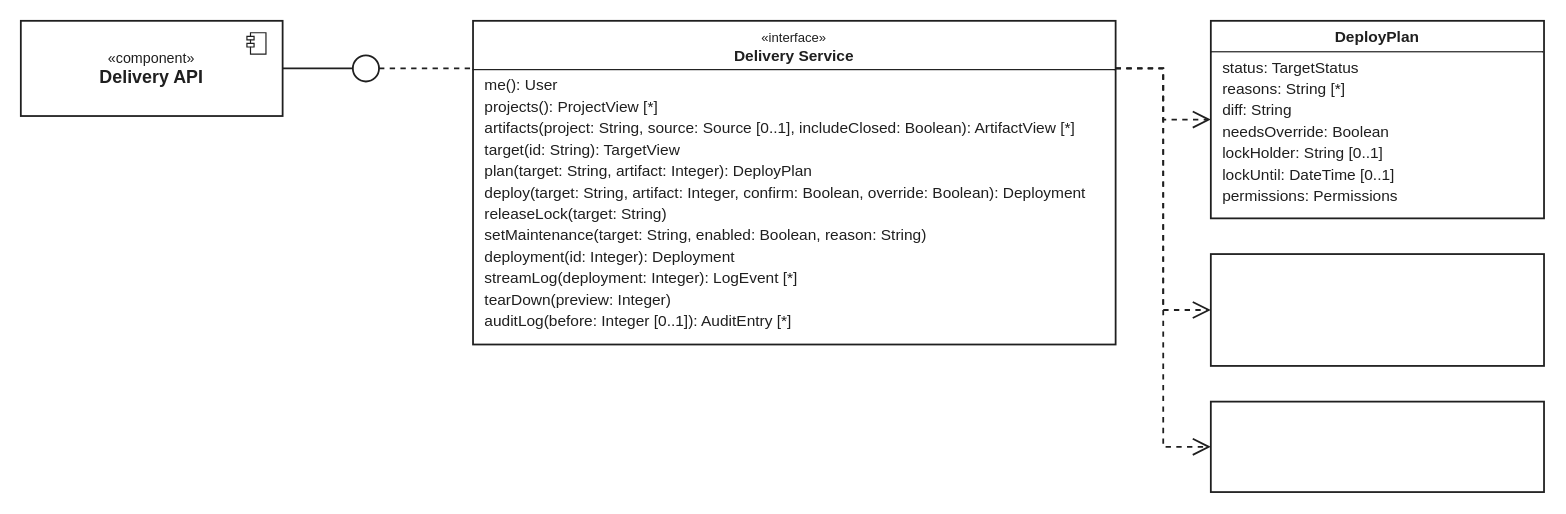
Some shapes in this 1566 by 514 pixel diagram are drawn without their labels. The box of each missing label's shape, as (x1, y1, x2, y2) in pixels:
LogEvent kind: log | status | end data: String: (1209, 400, 1544, 492)
Permissions deploy: Boolean override: Boolean maintenance: Boolean: (1209, 253, 1544, 366)
